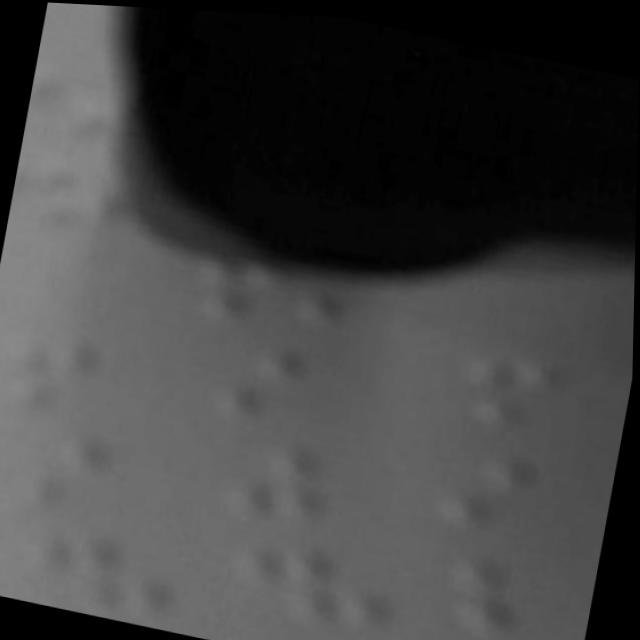braiile: (2, 506, 196, 631), (215, 518, 412, 640), (0, 315, 195, 435), (202, 330, 388, 451), (0, 409, 186, 529), (218, 424, 407, 541), (186, 231, 366, 352), (7, 143, 145, 251), (22, 64, 118, 154)
